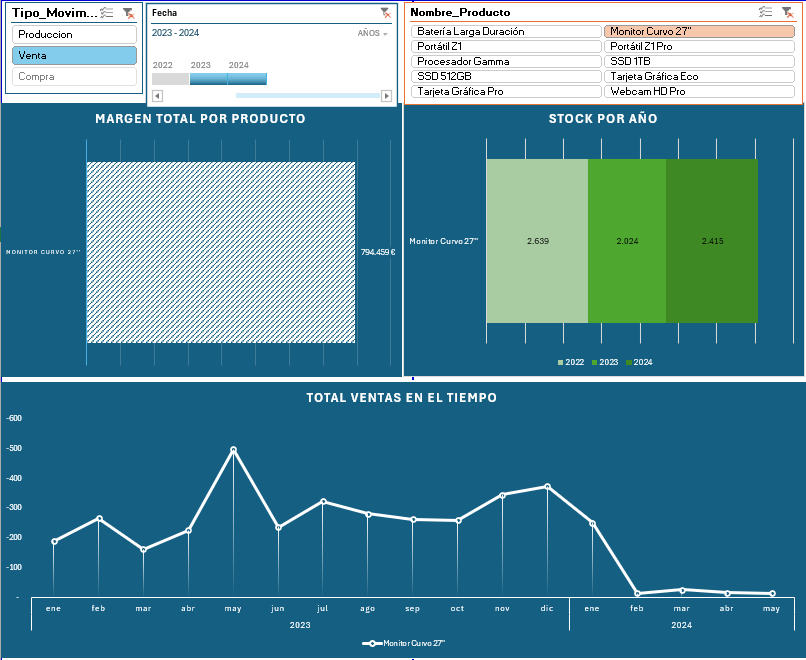

This screenshot's page, from the dashboard's own definition file:
{"tool":"powerbi","page":{"name":"Page 1","canvas":[1280,720],"ordinal":0},"visuals":[{"type":"kpi","fields":{"Indicator":["Sum(datos_empresa.Margen)"],"TrendLine":["datos_empresa.ID_Producto"]},"box":[0,0,278.9,112.6],"z":0},{"type":"kpi","fields":{"Indicator":["Sum(datos_empresa.Ingresos)"],"TrendLine":["datos_empresa.ID_Producto"]},"box":[278.9,0,277.5,112.6],"z":1000},{"type":"kpi","fields":{"Indicator":["datos_empresa.Unidades Vendidas"],"TrendLine":["datos_empresa.ID_Producto"]},"box":[556.3,0,278.9,112.6],"z":2000},{"type":"clusteredBarChart","fields":{"Category":["datos_empresa.Nombre_Producto"],"Y":["datos_empresa.Margen Total"],"Series":["datos_empresa.ID_Producto"]},"box":[0,112.6,570.1,307.7],"z":3000},{"type":"actionButton","box":[0,0,100,40],"z":4000},{"type":"lineChart","fields":{"Category":["Calendario.Date.Variation.Date Hierarchy.Year","Calendario.Date.Variation.Date Hierarchy.Quarter","Calendario.Date.Variation.Date Hierarchy.Month","Calendario.Date.Variation.Date Hierarchy.Day"],"Y":["datos_empresa.Unidades Vendidas"],"Series":["datos_empresa.Nombre_Producto"]},"box":[570.1,291.2,678.6,428.6],"z":5000},{"type":"slicer","fields":{"Values":["datos_empresa.Nombre_Producto"]},"box":[835.2,0,413.5,229.4],"z":5001},{"type":"lineStackedColumnComboChart","fields":{"Category":["datos_empresa.Nombre_Producto"],"Y":["datos_empresa.Stock Final","datos_empresa.Unidades Vendidas"],"Y2":["Calendario.Diferencia"]},"box":[0,420.3,570.1,299.5],"z":5002},{"type":"slicer","fields":{"Values":["Calendario.Año"]},"box":[556.3,112.6,302.2,116.8],"z":5003}]}

Visuals, with their boxes on the page's 1280x720 design canvas (x1, y1, x2, y2). These are canvas units, not pixel positions in the 806x660 screenshot, which may show the page scaled, cropped or inside an application window:
kpi - Sum(datos_empresa.Margen) x datos_empresa.ID_Producto: (left=0, top=0, right=279, bottom=113)
kpi - Sum(datos_empresa.Ingresos) x datos_empresa.ID_Producto: (left=279, top=0, right=556, bottom=113)
kpi - datos_empresa.Unidades Vendidas x datos_empresa.ID_Producto: (left=556, top=0, right=835, bottom=113)
clusteredBarChart - datos_empresa.Nombre_Producto x datos_empresa.Margen Total: (left=0, top=113, right=570, bottom=420)
actionButton: (left=0, top=0, right=100, bottom=40)
lineChart - Calendario.Date.Variation.Date Hierarchy.Year x Calendario.Date.Variation.Date Hierarchy.Quarter: (left=570, top=291, right=1249, bottom=720)
slicer - datos_empresa.Nombre_Producto: (left=835, top=0, right=1249, bottom=229)
lineStackedColumnComboChart - datos_empresa.Nombre_Producto x datos_empresa.Stock Final: (left=0, top=420, right=570, bottom=720)
slicer - Calendario.Año: (left=556, top=113, right=858, bottom=229)
